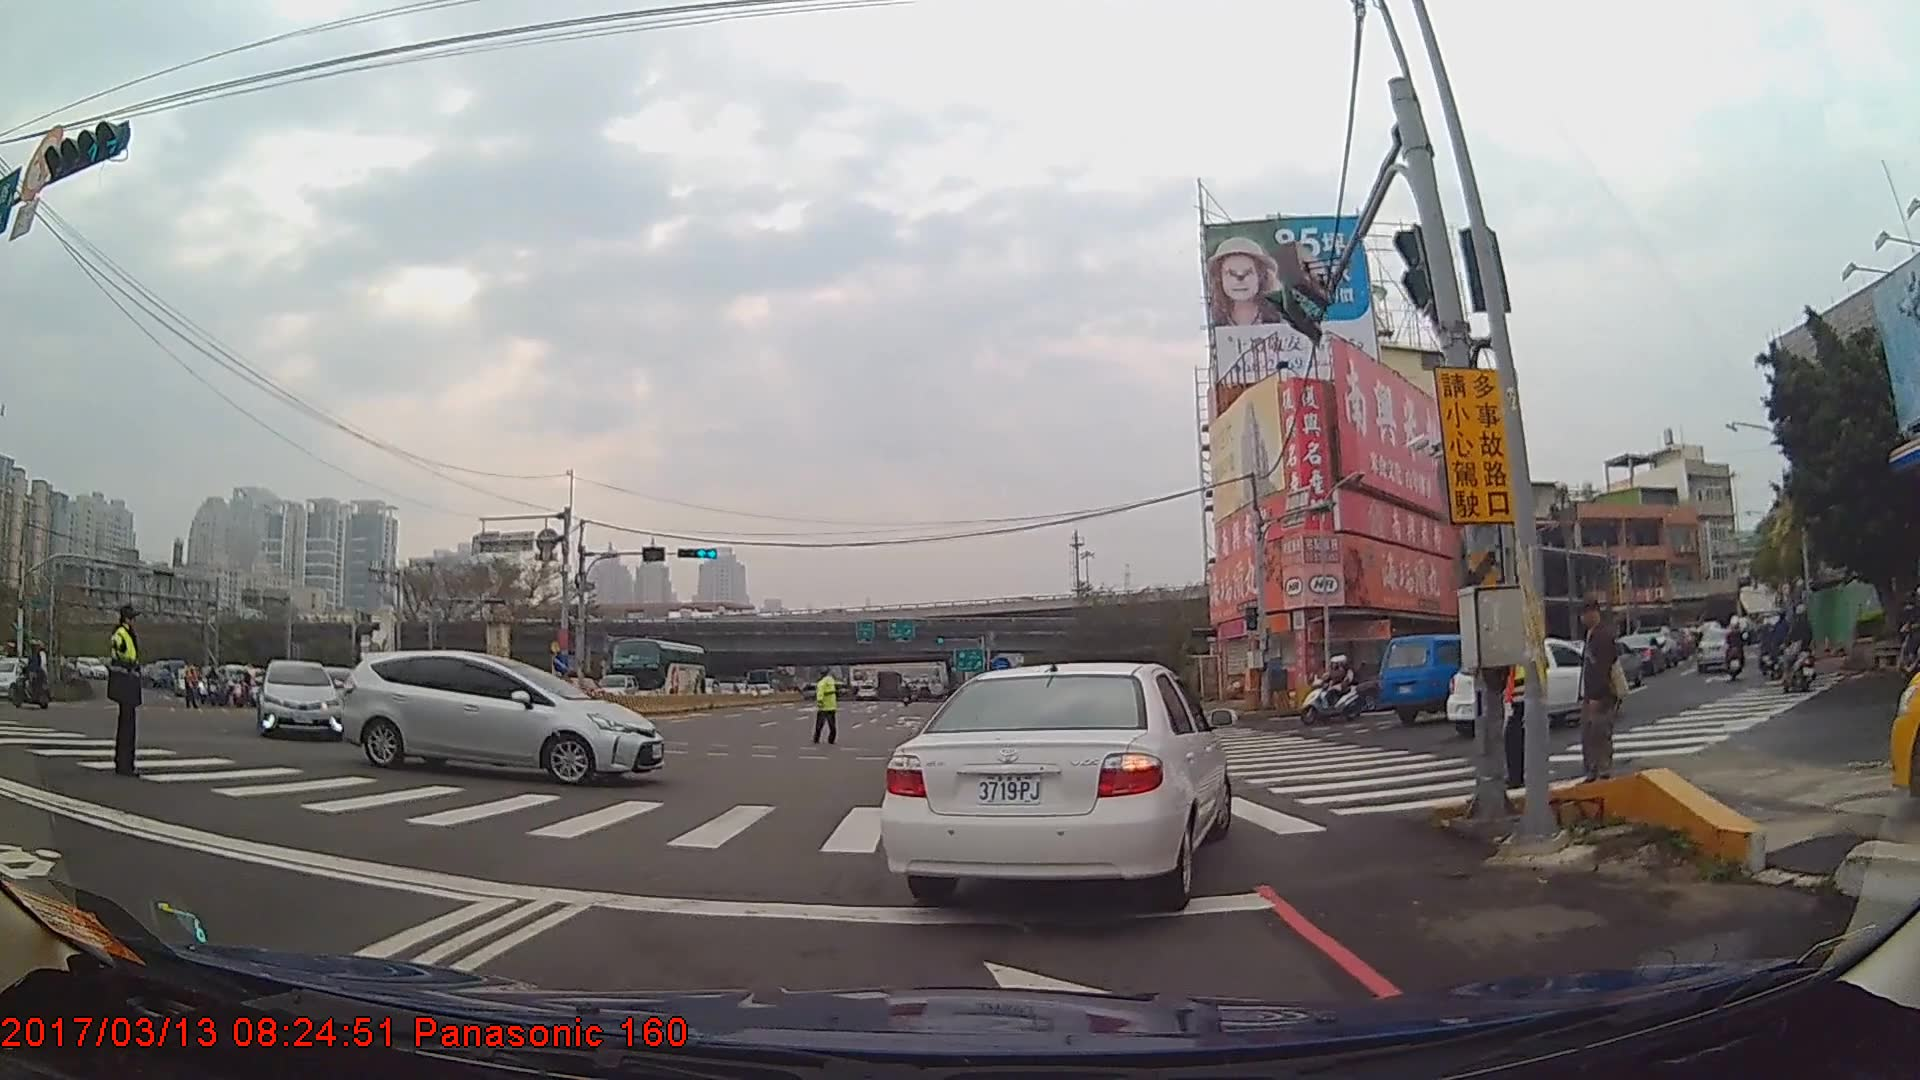pedestrian: (1570, 595, 1630, 790), (94, 602, 147, 780), (811, 666, 842, 749)
rider: (1299, 658, 1363, 731), (1778, 607, 1819, 696), (9, 638, 53, 712), (1725, 619, 1748, 684), (1772, 615, 1795, 683), (1756, 618, 1776, 678)
vehicle: (881, 662, 1235, 903), (337, 648, 667, 786), (1441, 640, 1617, 737), (1380, 632, 1540, 726), (602, 634, 706, 706), (258, 657, 344, 739), (1693, 625, 1743, 674), (0, 652, 47, 702), (1616, 634, 1664, 677)
